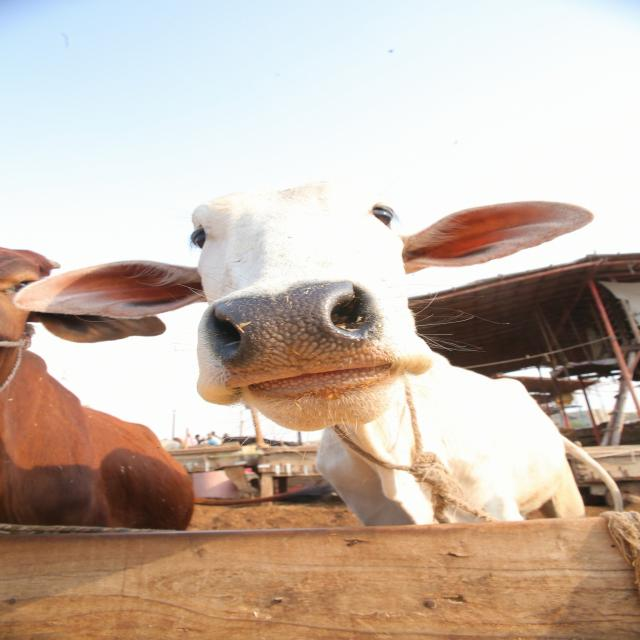muzzles: (185, 279, 390, 390)
